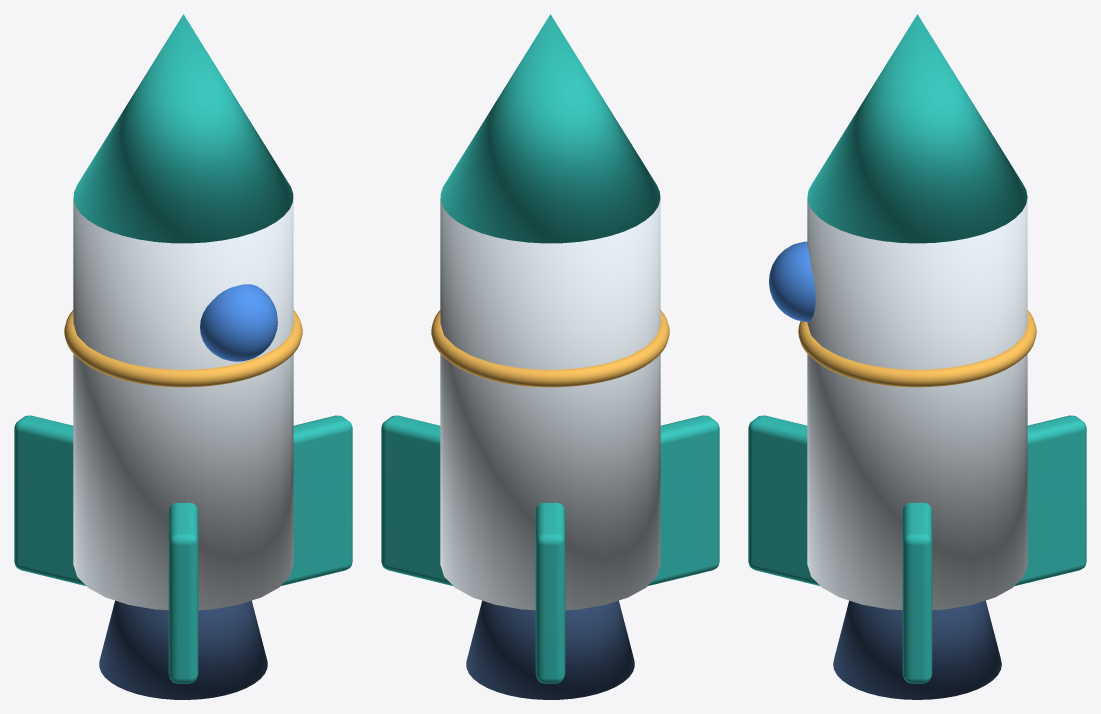
Rendered from rocket-quality.glb.
3 renders of one model, left to right at view 1: azimuth 30°, elevation 25°; view 2: azimuth 150°, elevation 25°; view 3: azimuth 270°, elevation 25°, orthographic.
Parts seen in each view (by area): view 1: Body; view 2: Body; view 3: Body.
Boxes of the visible parts, <box> form: Body: <box>14,14,352,699</box>; Body: <box>381,14,719,699</box>; Body: <box>748,14,1086,699</box>.
Size of the model in its own units: 0.845 by 1.96 by 0.9224.
